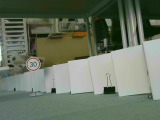speed_30: (25, 57, 41, 72)
